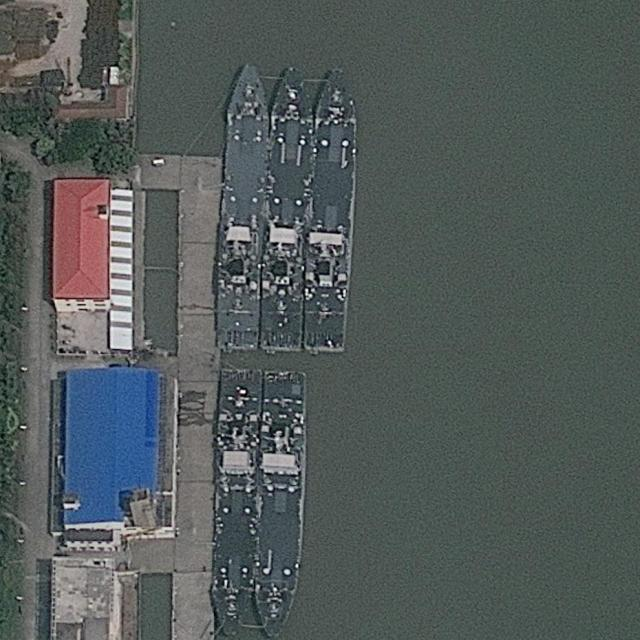Landing: (215, 65, 273, 351), (302, 67, 357, 350), (262, 67, 315, 349), (209, 367, 264, 637), (253, 369, 304, 636)
